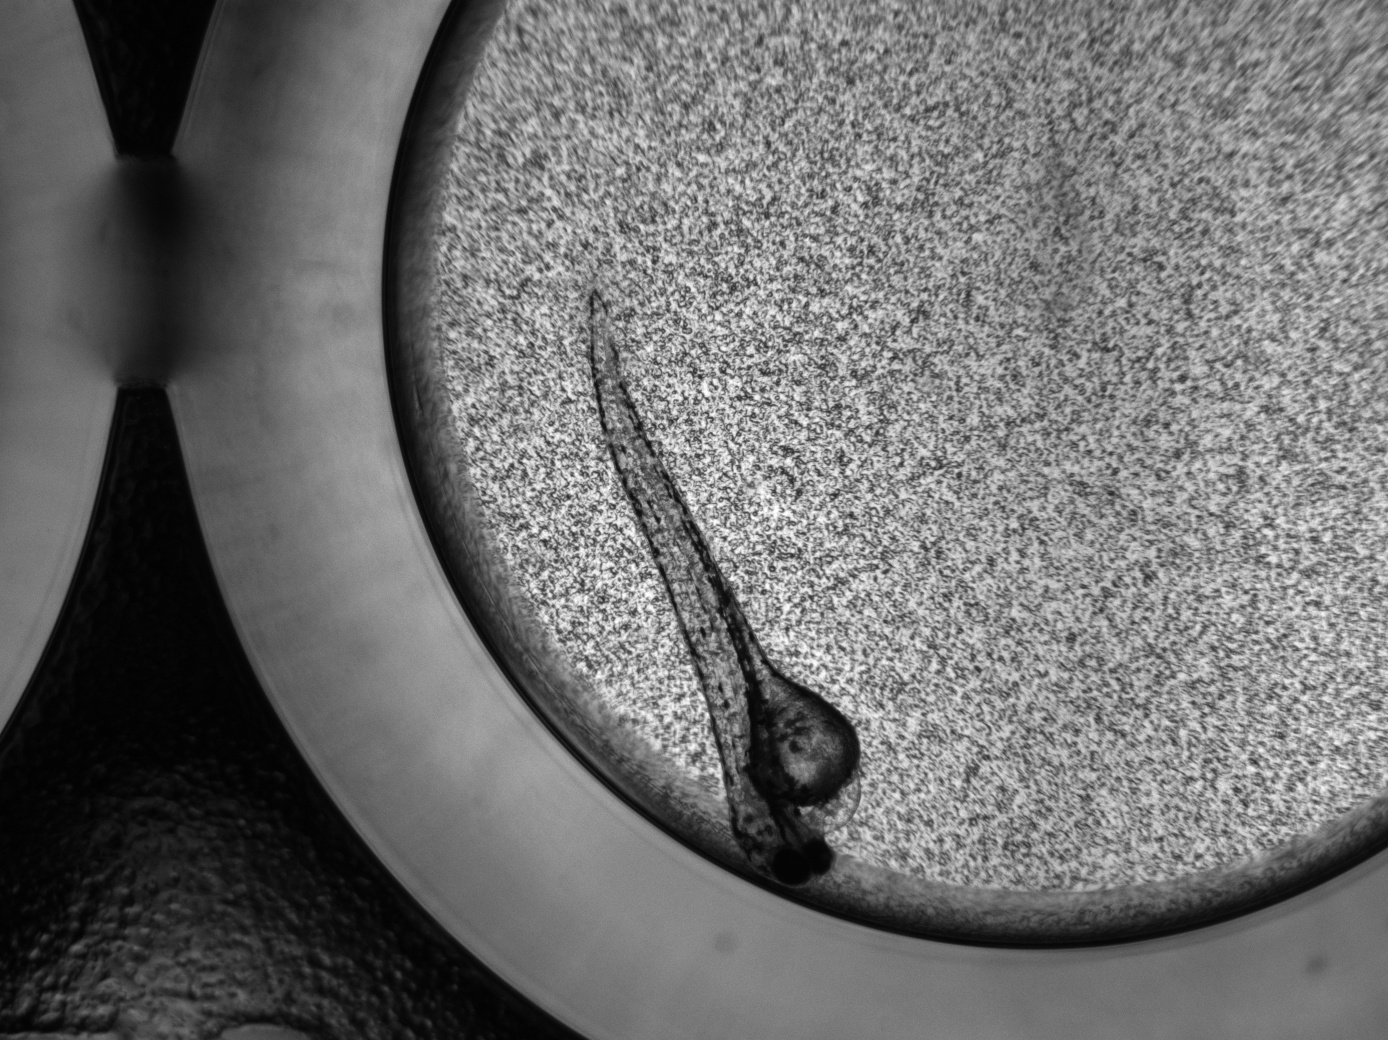embryo: (586, 289, 861, 886)
eye: (772, 849, 811, 885), (802, 840, 832, 876)
yolksac: (747, 674, 862, 808)
